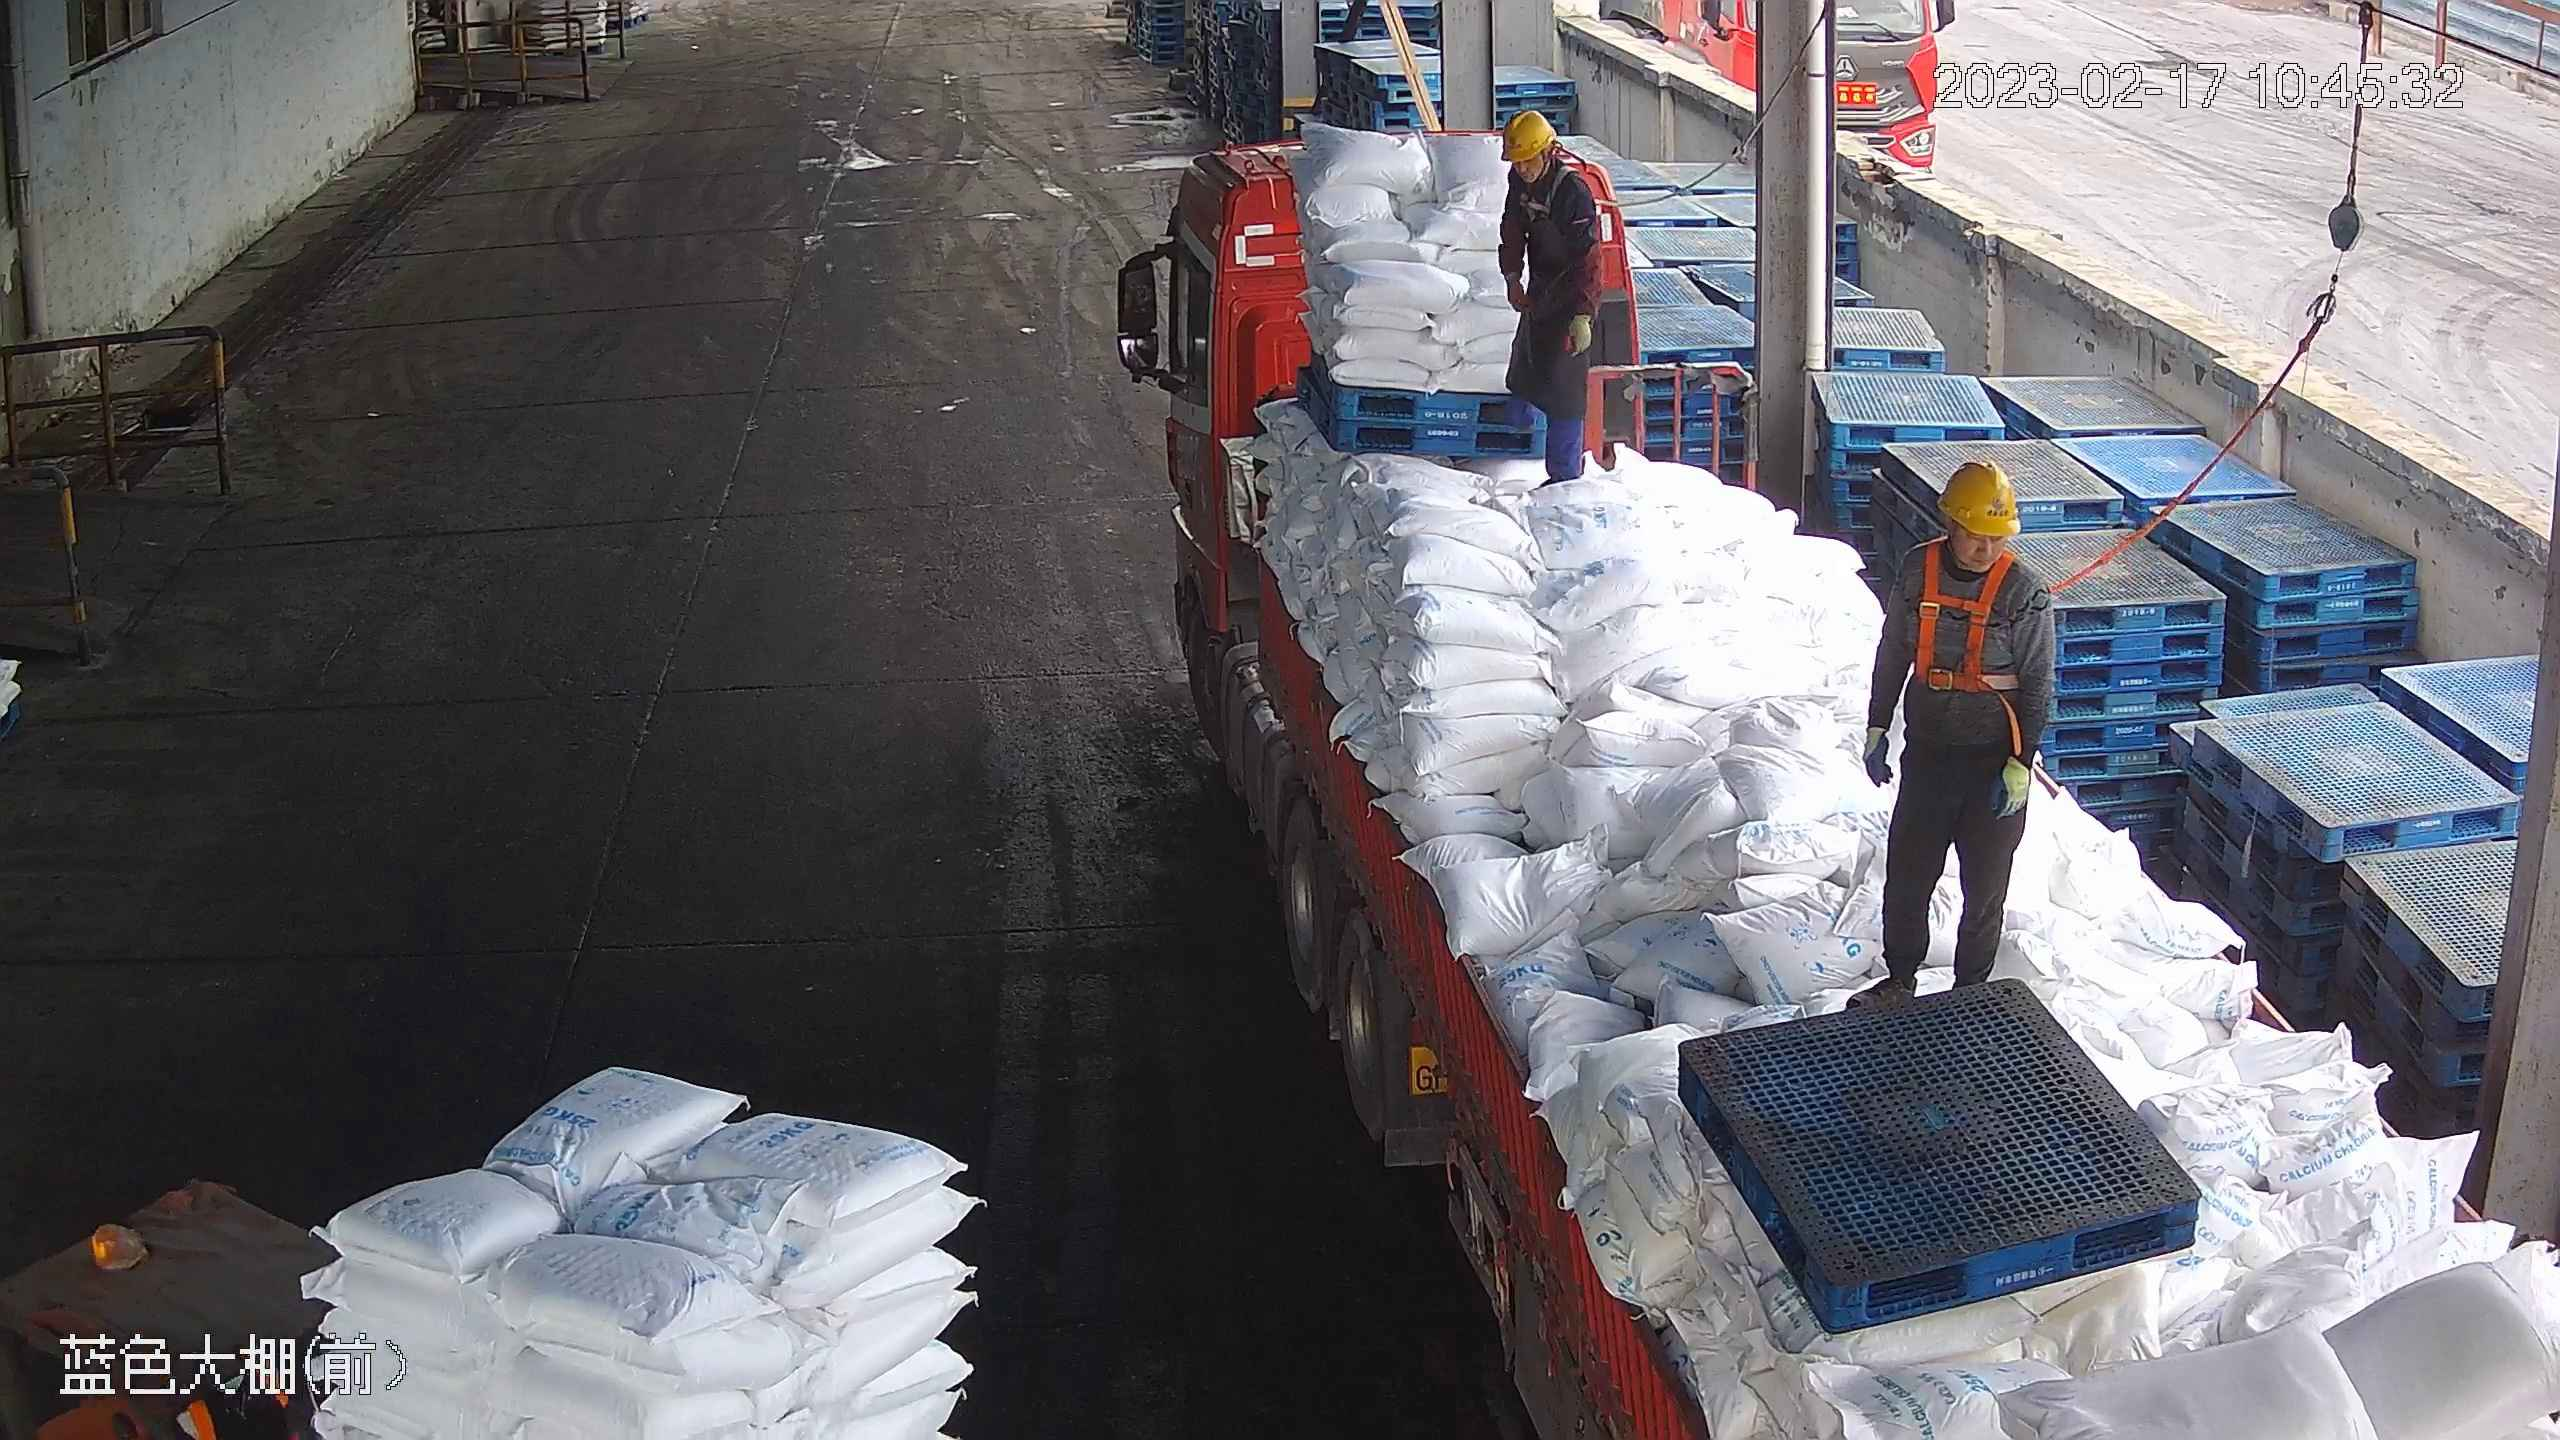belt: (1893, 540, 2091, 699), (1518, 167, 1591, 218)
head: (1876, 457, 2047, 639), (1493, 111, 1588, 225)
helmet: (1940, 459, 2017, 544), (1498, 109, 1552, 163)
people: (1842, 459, 2059, 1013), (1496, 113, 1612, 491)
truck: (1103, 135, 2560, 1440)
